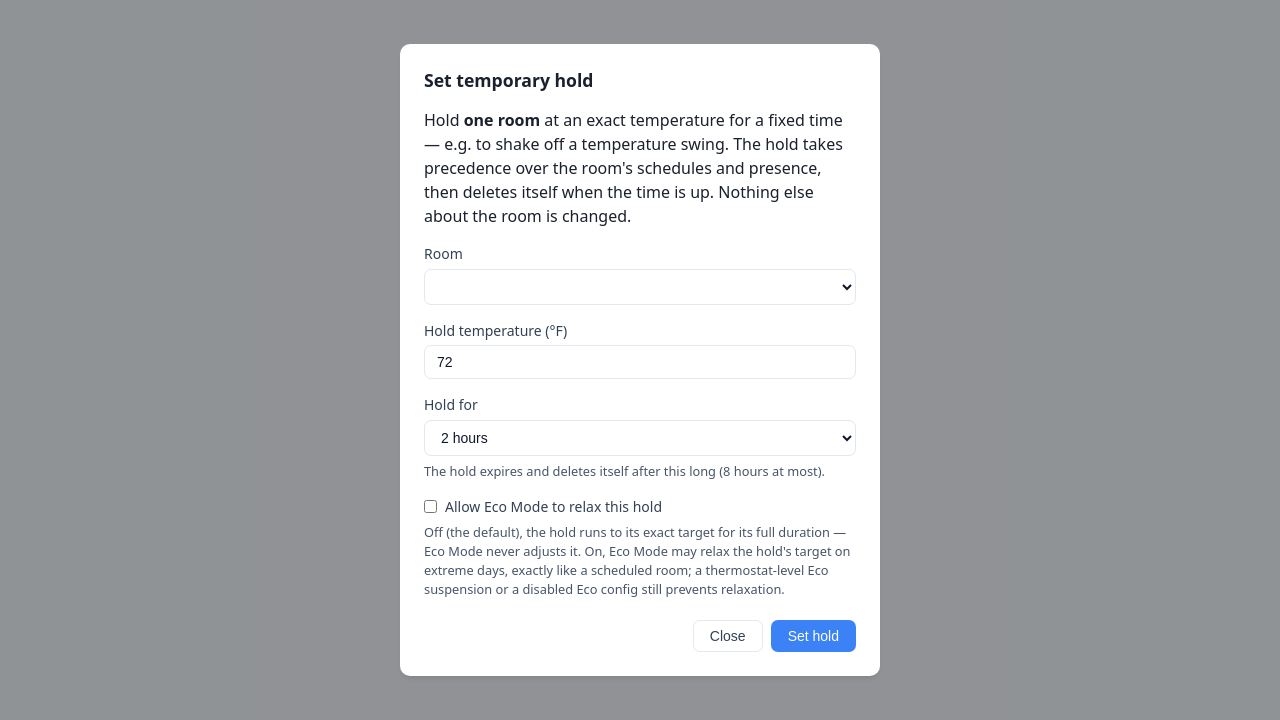
Test: HoldModal (Issue #576) › requires a room selection when none are available
What coordinates should you click on to do the following:
click the button with test id "hold-modal-save"
I would click on:
 (813, 636)
Its box is [771,620,856,652].
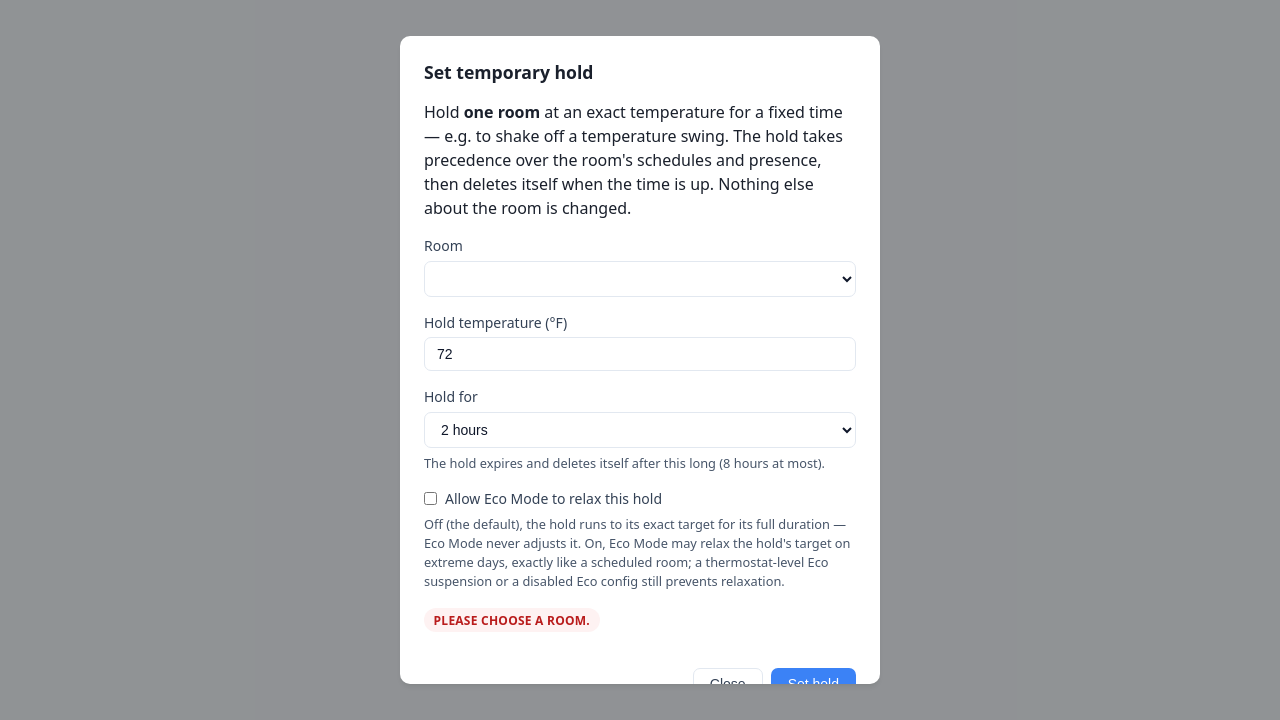
Expected: the text "Please choose a room." is shown, [424,608,600,632]
